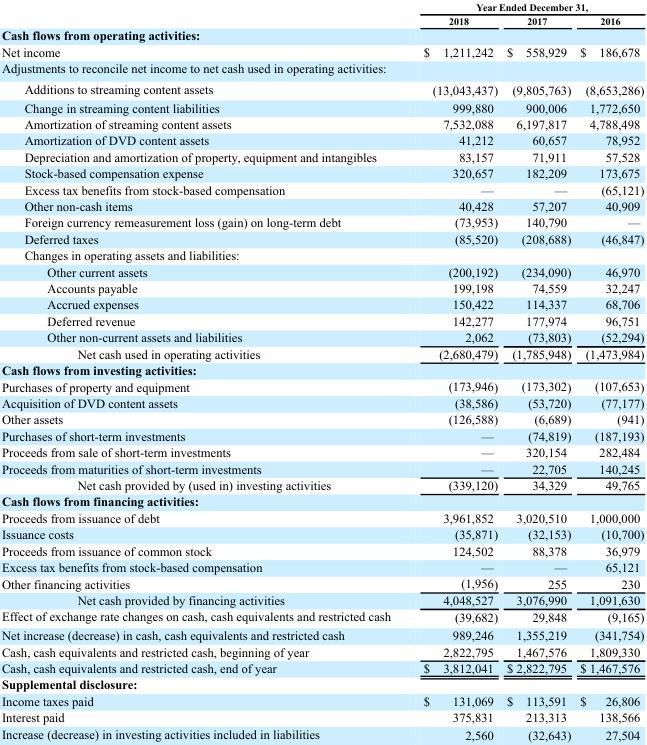table: (0, 0, 643, 741)
table column: (0, 0, 406, 741), (406, 0, 501, 741), (501, 0, 574, 741), (574, 0, 643, 741)
table column header: (0, 0, 643, 27)
table projected row header: (0, 59, 643, 78), (0, 246, 643, 263), (0, 492, 643, 509), (0, 675, 643, 692), (0, 27, 643, 43), (0, 361, 643, 377)
table row: (0, 78, 643, 98), (0, 59, 643, 78), (0, 607, 643, 626), (0, 98, 643, 115), (0, 131, 643, 148), (0, 164, 643, 181), (0, 213, 643, 230), (0, 246, 643, 263), (0, 279, 643, 296), (0, 328, 643, 345), (0, 377, 643, 394), (0, 410, 643, 427), (0, 443, 643, 460), (0, 492, 643, 509), (0, 525, 643, 542), (0, 558, 643, 575), (0, 626, 643, 643), (0, 675, 643, 692), (0, 708, 643, 725), (0, 27, 643, 43), (0, 43, 643, 59), (0, 115, 643, 131), (0, 148, 643, 164), (0, 181, 643, 197), (0, 197, 643, 213), (0, 230, 643, 246), (0, 263, 643, 279), (0, 296, 643, 312), (0, 312, 643, 328), (0, 345, 643, 361), (0, 361, 643, 377), (0, 394, 643, 410), (0, 427, 643, 443), (0, 460, 643, 476), (0, 476, 643, 492), (0, 509, 643, 525), (0, 542, 643, 558), (0, 575, 643, 591), (0, 591, 643, 607), (0, 643, 643, 659), (0, 659, 643, 675), (0, 692, 643, 708), (0, 725, 643, 741), (0, 13, 643, 27), (0, 0, 643, 13)
table spanning cell: (406, 0, 643, 13)
